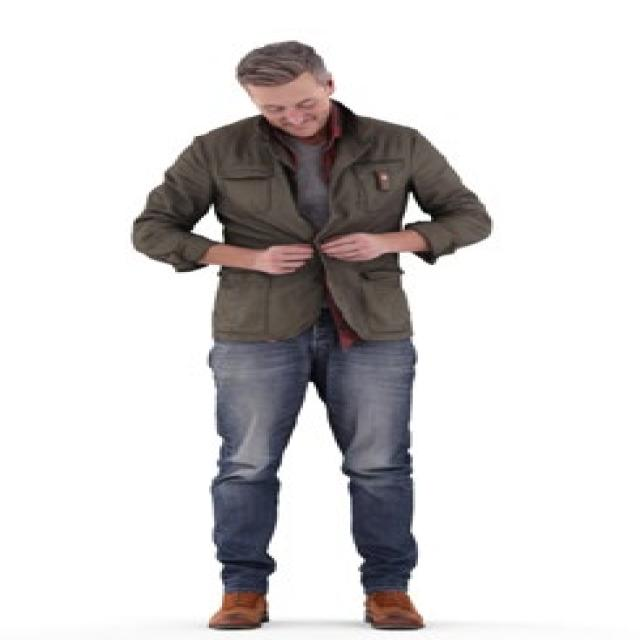standing: (128, 37, 502, 631)
